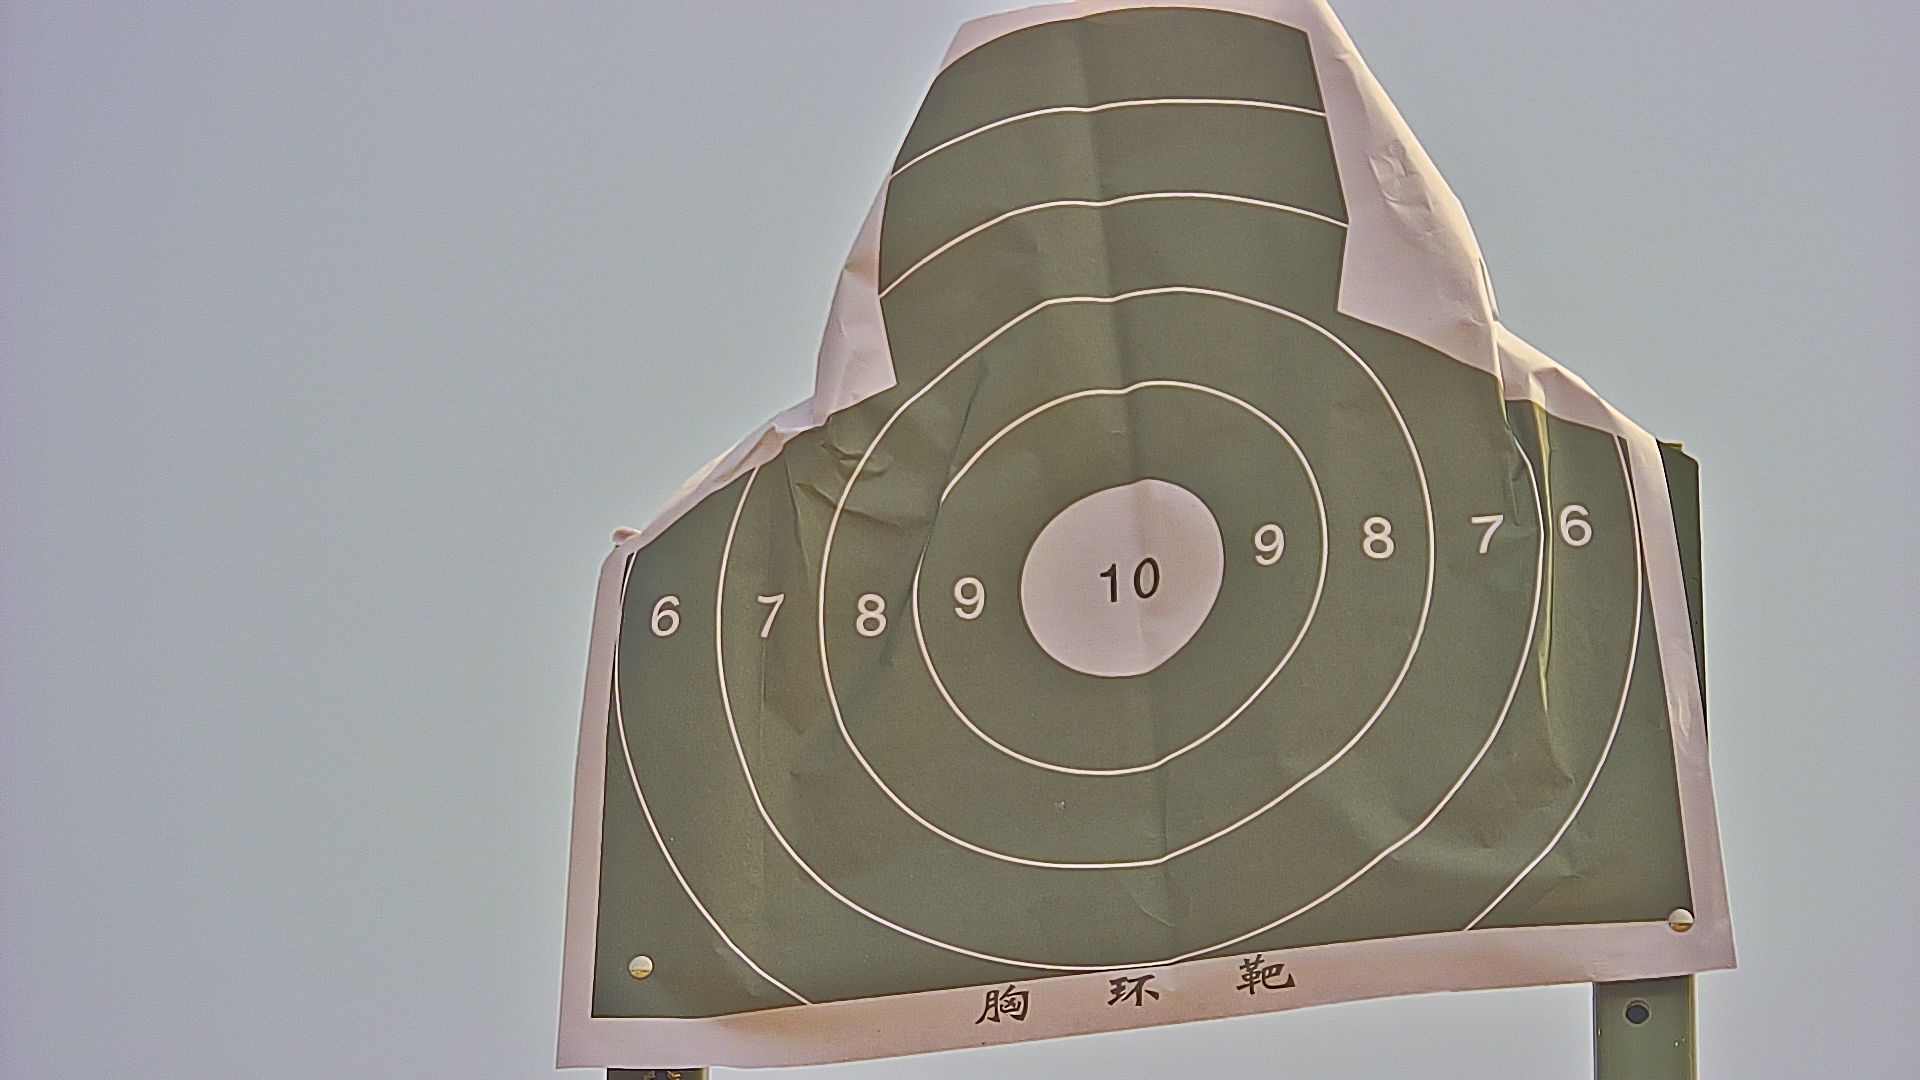target: (589, 7, 1691, 1021)
ten: (1015, 476, 1226, 682)
